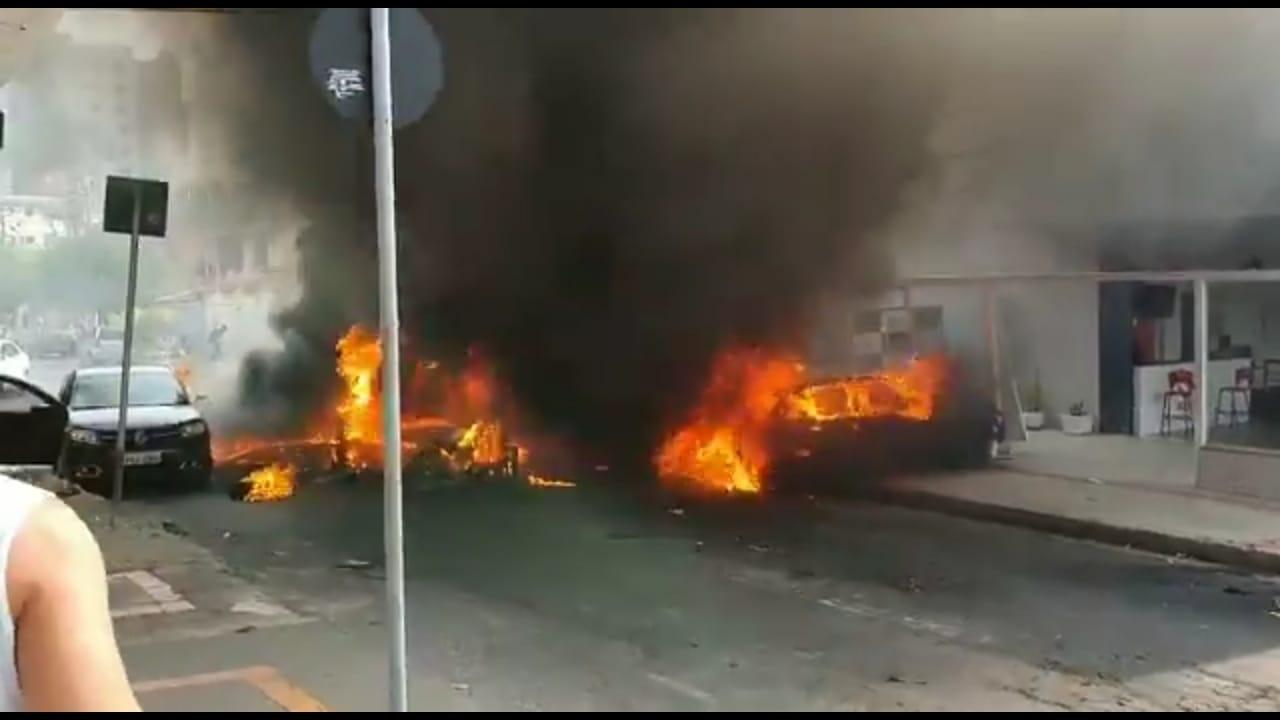Fire: (661, 345, 935, 496), (332, 326, 381, 471), (444, 412, 525, 471), (240, 464, 301, 506), (526, 472, 578, 491)
